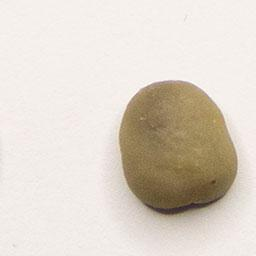premium: (117, 75, 240, 212)
